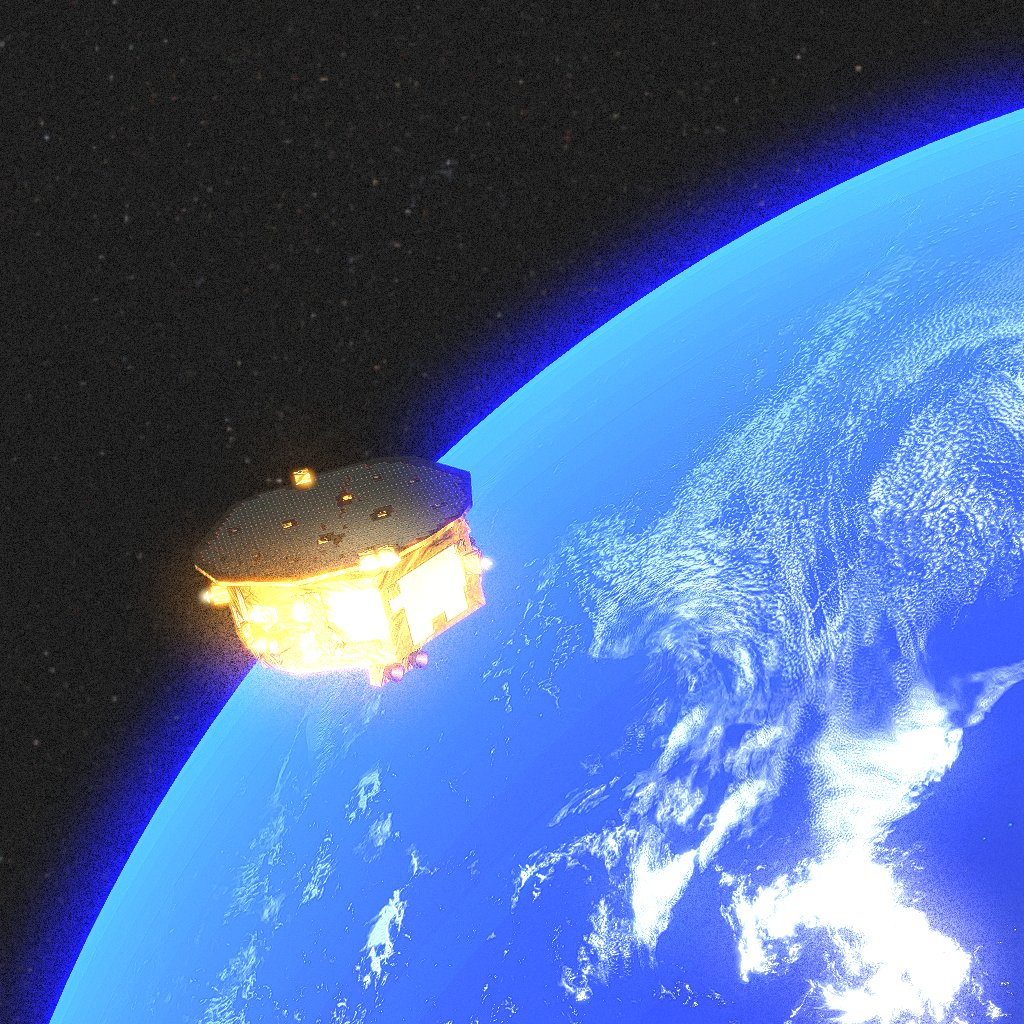lisa_pathfinder: (192, 456, 492, 686)
